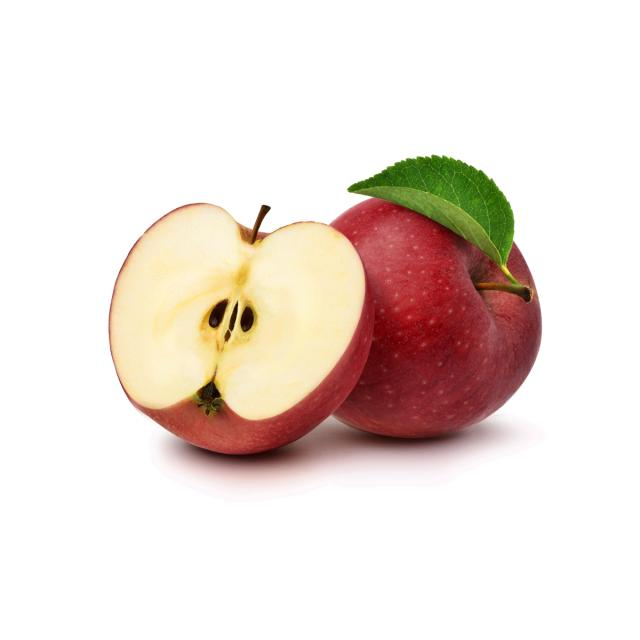Apple: (112, 197, 374, 457), (332, 182, 543, 449)
